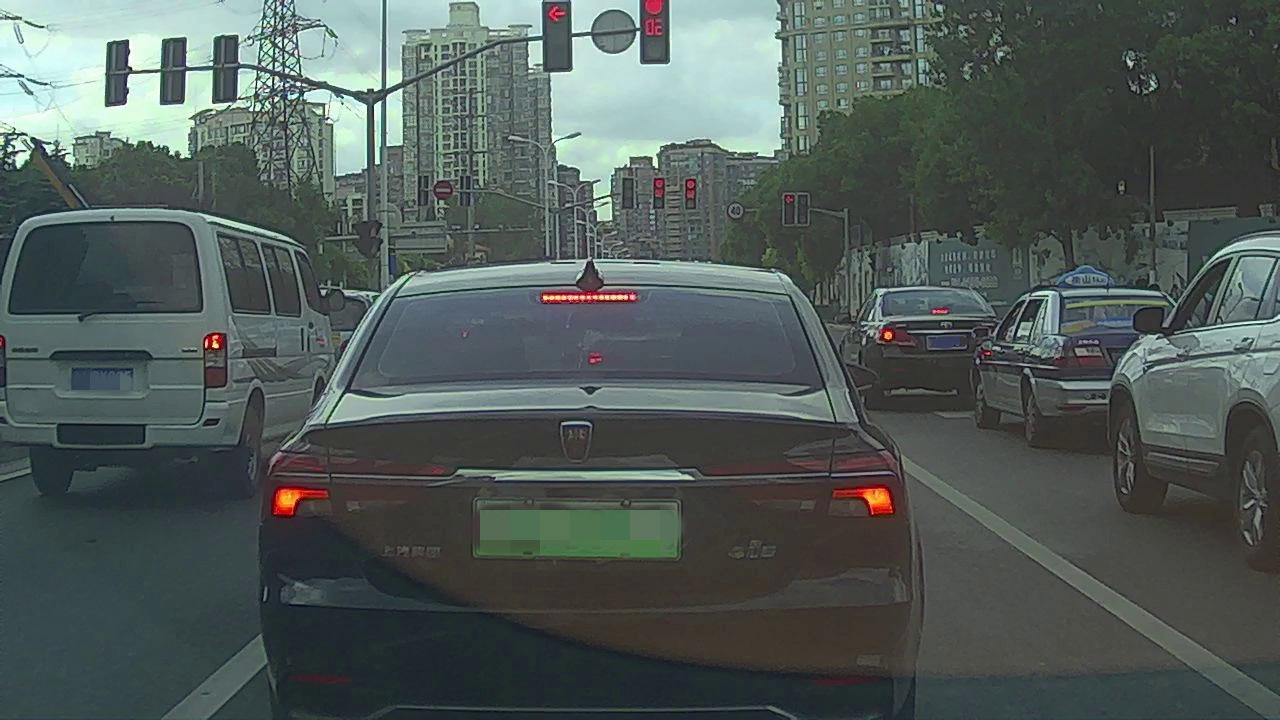traffic_light: (543, 1, 571, 71), (640, 1, 668, 65), (782, 194, 795, 226), (796, 194, 809, 225), (622, 178, 634, 209), (684, 179, 696, 209), (653, 178, 664, 210)
